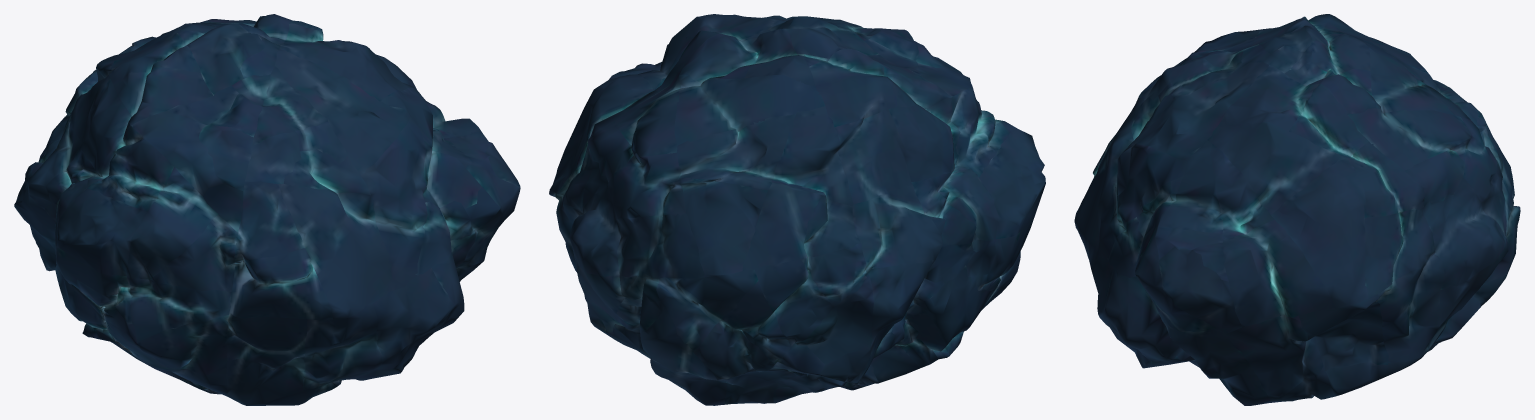
The model's file is boulder-1.glb.
3 renders of one model, left to right at view 1: azimuth 30°, elevation 25°; view 2: azimuth 150°, elevation 25°; view 3: azimuth 270°, elevation 25°, orthographic. The views are drawn at different scales.
Visible parts, largest first — view 1: mesh_node; view 2: mesh_node; view 3: mesh_node.
Part boxes in pixels (x1=…): mesh_node: x1=14, y1=14, x2=520, y2=405; mesh_node: x1=549, y1=14, x2=1045, y2=405; mesh_node: x1=1074, y1=14, x2=1520, y2=405.
Bounding box in the file's own units: 1.9 × 1.52 × 1.83.
1 material, 1 textured.
